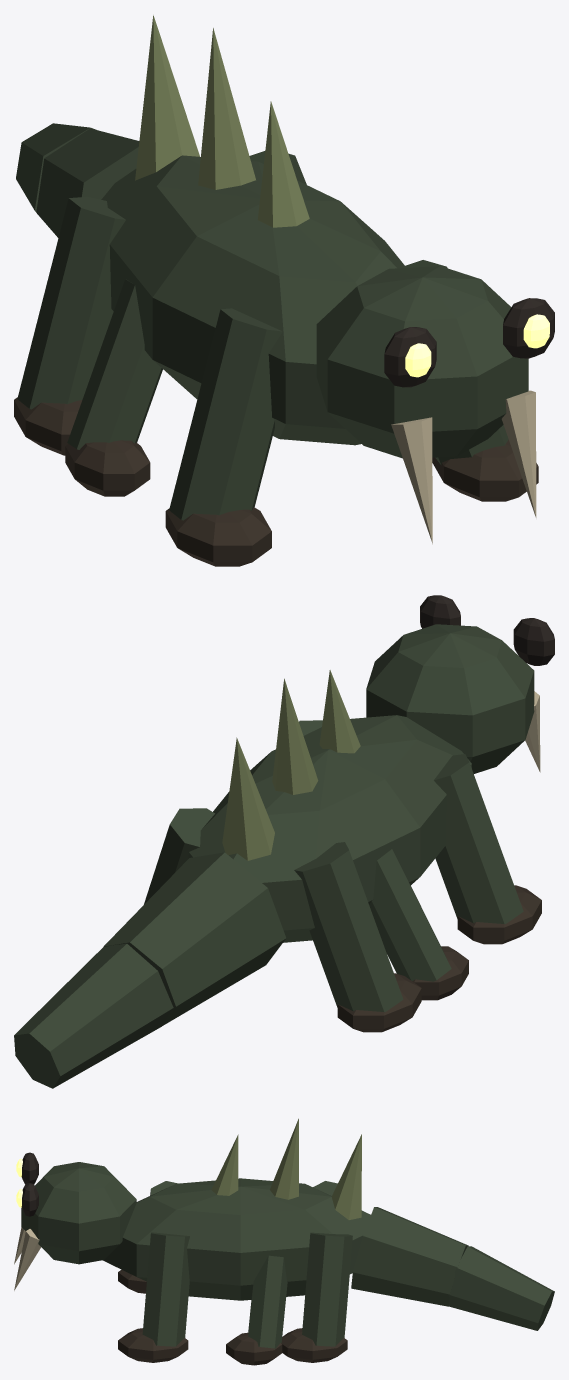
Rendered from fauna-deepmaw_basilisk.glb.
3 renders of one model, top to bottom at view 1: azimuth 30°, elevation 25°; view 2: azimuth 150°, elevation 25°; view 3: azimuth 270°, elevation 25°, orthographic. The views are drawn at different scales.
Parts seen in each view (by area): view 1: Fauna_deepmaw_basilisk; view 2: Fauna_deepmaw_basilisk; view 3: Fauna_deepmaw_basilisk.
Boxes of the visible parts, x1,y1,x2,y2 form: Fauna_deepmaw_basilisk: (14,15,554,566); Fauna_deepmaw_basilisk: (14,595,554,1088); Fauna_deepmaw_basilisk: (14,1118,554,1365).
Bounding box in the file's own units: 0.9796 × 1.02 × 2.41.
